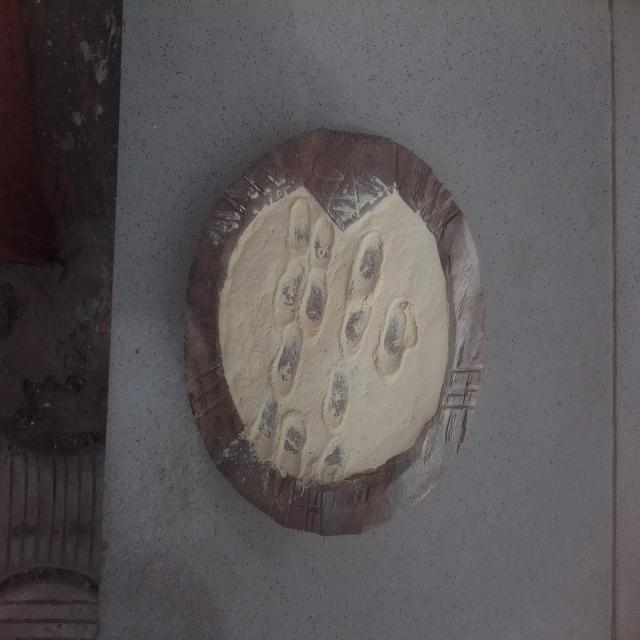double: (340, 297, 420, 372), (245, 401, 312, 474), (272, 266, 333, 334), (285, 194, 338, 268)
single: (268, 322, 308, 397), (348, 228, 388, 296), (321, 362, 352, 430), (315, 434, 355, 482)
